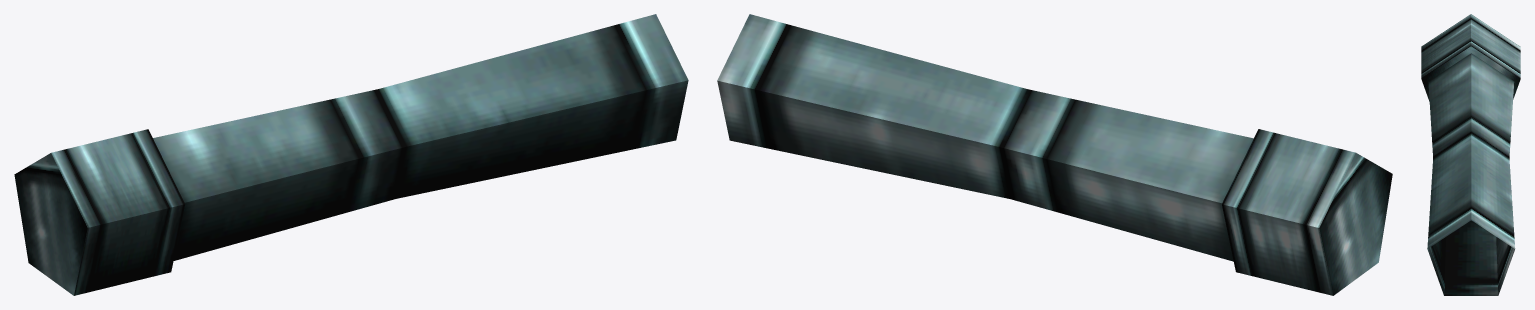
The model's file is Rohr_StückDünn [Rohr]_106.glb.
3 renders of one model, left to right at view 1: azimuth 30°, elevation 25°; view 2: azimuth 150°, elevation 25°; view 3: azimuth 270°, elevation 25°, orthographic. The views are drawn at different scales.
Parts seen in each view (by area): view 1: pCylinderShape79, pCylinderShape80; view 2: pCylinderShape79, pCylinderShape80; view 3: pCylinderShape79, pCylinderShape80.
Boxes of the visible parts, x1,y1,x2,y2 form: pCylinderShape79: (153, 14, 688, 260); pCylinderShape80: (14, 129, 184, 295); pCylinderShape79: (717, 14, 1253, 261); pCylinderShape80: (1222, 129, 1392, 295); pCylinderShape79: (1427, 53, 1515, 295); pCylinderShape80: (1421, 14, 1520, 101).
Size of the model in its own units: 0.545 by 0.109 by 0.1145.
Materials: 2 (2 with a texture image).
